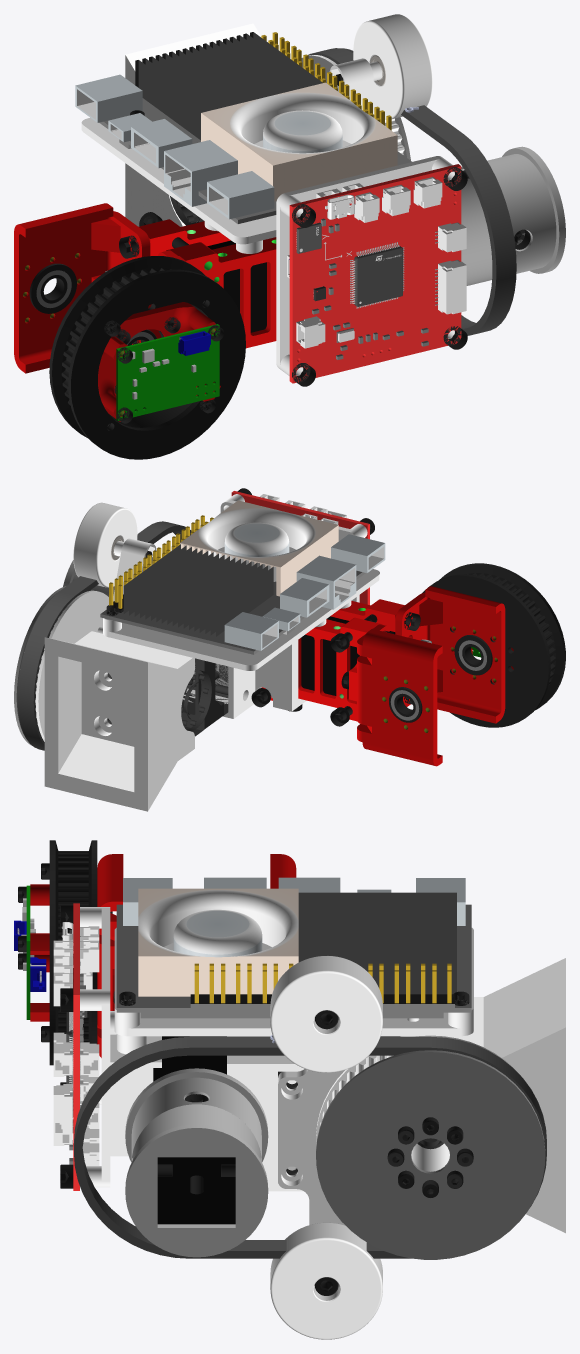
Rendered from female2.dae.
3 views of the same model, one above another, from view 1: azimuth 30°, elevation 25°; view 2: azimuth 150°, elevation 25°; view 3: azimuth 270°, elevation 25° (orthographic). The views are drawn at different scales.
Parts seen in each view (by area): view 1: node63, node78, node69, node76, node66, node71, node70, node92, node64, node80, node87, node77 (+19 smaller); view 2: node86, node66, node76, node74, node77, node69, node71, node91, node92, node89, node97, node102 (+16 smaller); view 3: node94, node66, node87, node86, node92, node97, node98, node70, node71, node67, node90, node64 (+17 smaller).
Boxes of the visible parts, x1,y1,x2,y2 form: node63: (289, 164, 461, 383); node78: (68, 269, 245, 459); node69: (75, 74, 342, 219); node76: (14, 203, 150, 373); node66: (135, 32, 322, 140); node71: (77, 89, 375, 215); node70: (201, 82, 397, 201); node92: (308, 48, 516, 335); node64: (287, 177, 466, 348); node80: (116, 324, 219, 420); node87: (487, 146, 565, 273); node77: (49, 256, 206, 437); node86: (44, 631, 194, 811); node66: (123, 544, 273, 636); node76: (357, 624, 442, 766); node74: (395, 586, 505, 723); node77: (422, 573, 555, 727); node69: (224, 523, 385, 650); node71: (198, 508, 384, 648); node91: (103, 569, 379, 670); node92: (17, 521, 191, 750); node89: (183, 640, 306, 718); node97: (73, 502, 137, 587); node102: (261, 617, 382, 721); node94: (316, 1050, 545, 1259); node66: (298, 892, 456, 994); node87: (125, 1104, 268, 1257); node86: (446, 958, 565, 1233); node92: (74, 1036, 546, 1258); node97: (270, 955, 382, 1072); node98: (270, 1222, 382, 1339); node70: (138, 888, 298, 996); node71: (138, 890, 298, 956); node67: (116, 904, 471, 1018); node90: (80, 907, 161, 1187); node64: (53, 922, 99, 1165).
Bounding box in the file's own units: 0.157 × 0.094 × 0.1275.
